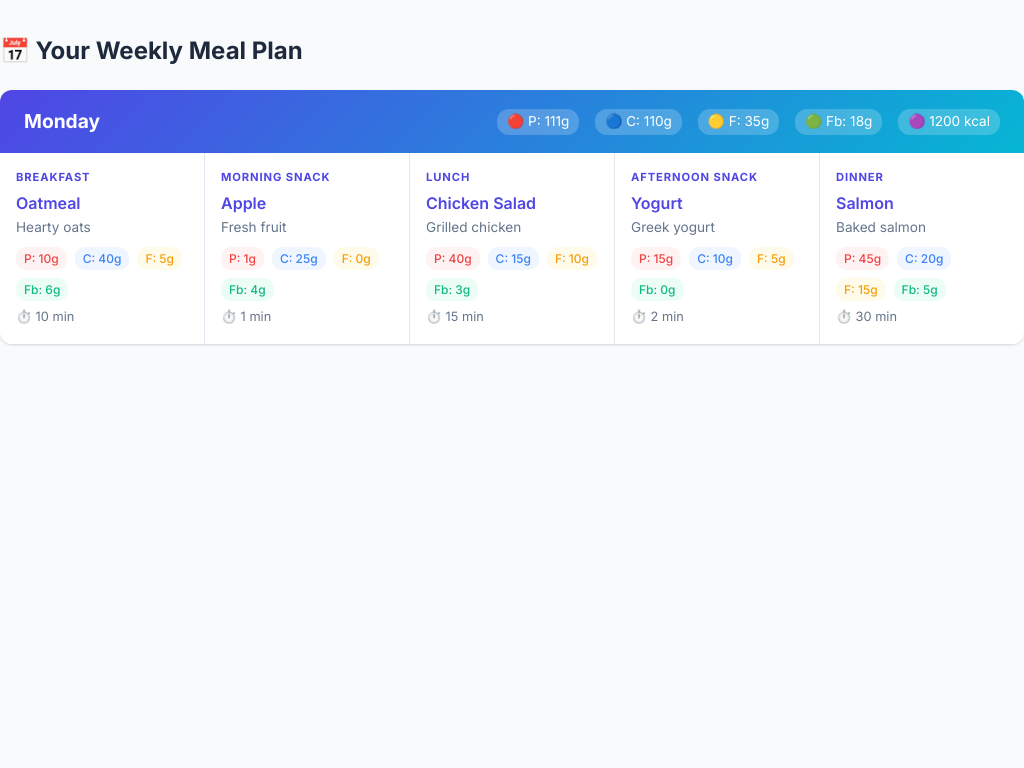
Test: MealPlanDisplay › displays recipe content after successful fetch
Click the button "Oatmeal". click: (48, 203)
box: x1=16 y1=193 x2=80 y2=213
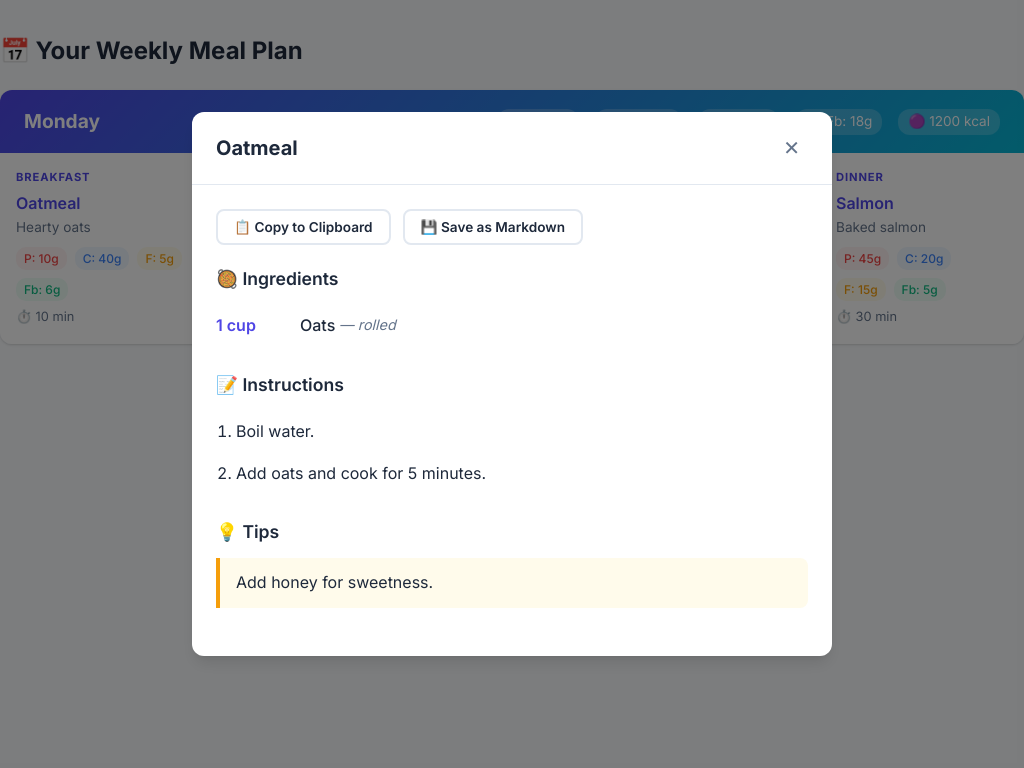
Expected: the text "Oats" is shown, x1=300 y1=313 x2=335 y2=339
Expected: the list item "Boil water." is shown, x1=236 y1=421 x2=314 y2=441
Expected: the list item "Add oats and cook for 5 minutes." is shown, x1=236 y1=463 x2=486 y2=483
